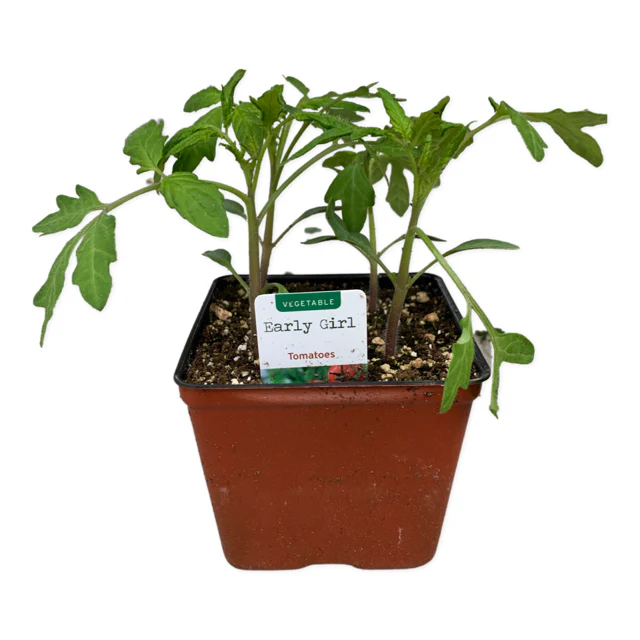tomato: (150, 128, 391, 281)
